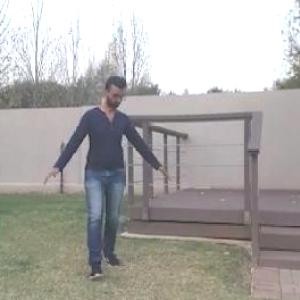land: (56, 71, 160, 288)
